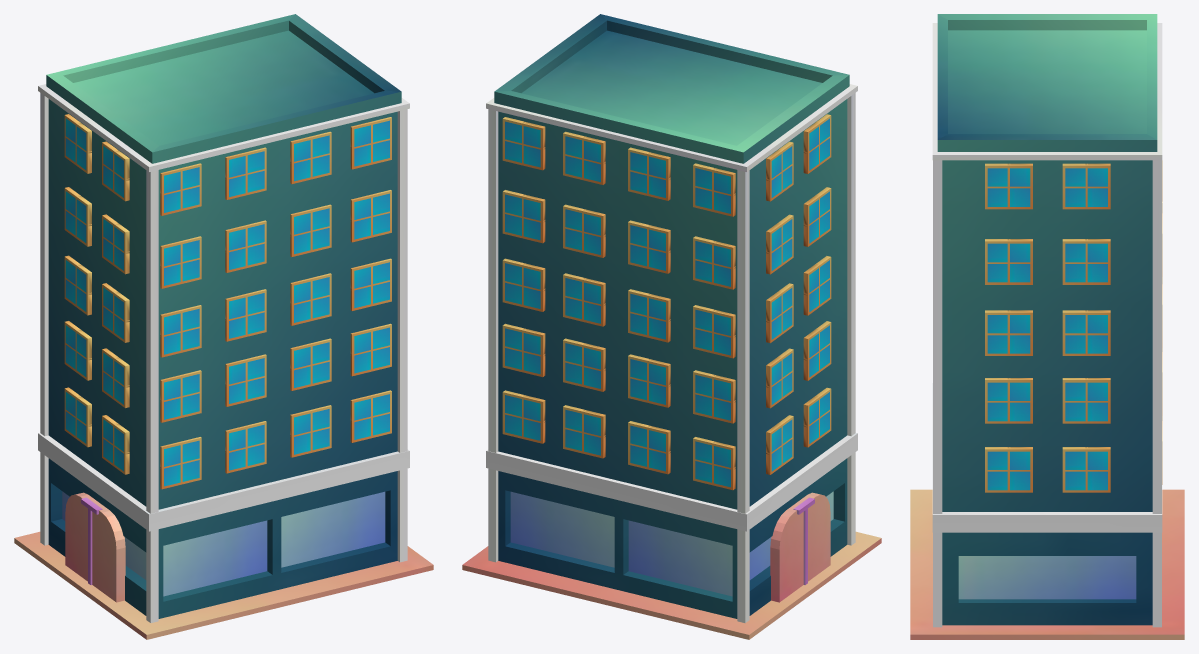
File: House_18.glb
The picture shows the model from 3 angles, left to right: view 1: azimuth 30°, elevation 25°; view 2: azimuth 150°, elevation 25°; view 3: azimuth 270°, elevation 25°; orthographic projection. The views are drawn at different scales.
Visible parts, largest first — view 1: House_18; view 2: House_18; view 3: House_18.
Boxes of the visible parts, box(x1,y1,x2,y2) form: House_18: box(14, 14, 433, 639); House_18: box(462, 14, 881, 639); House_18: box(910, 14, 1184, 639).
Bounding box in the file's own units: 1430 × 2254 × 1144.
Materials: 1 (1 with a texture image).
